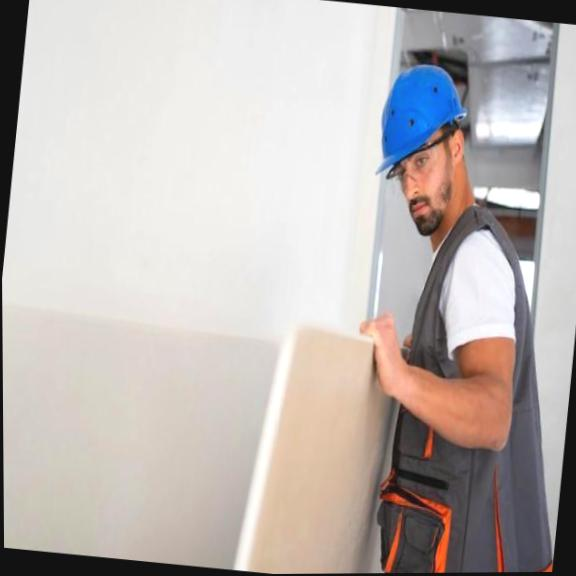no_safety_vest: (357, 209, 576, 573)
